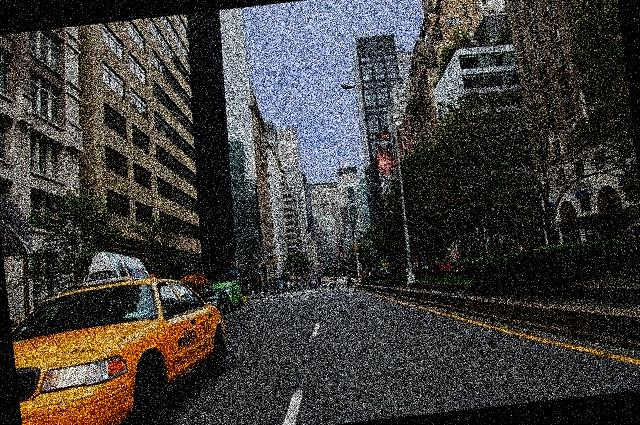taxi: (1, 251, 240, 416)
